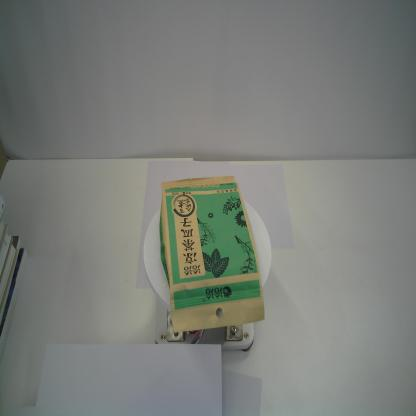Dried Food: (158, 173, 266, 335)
